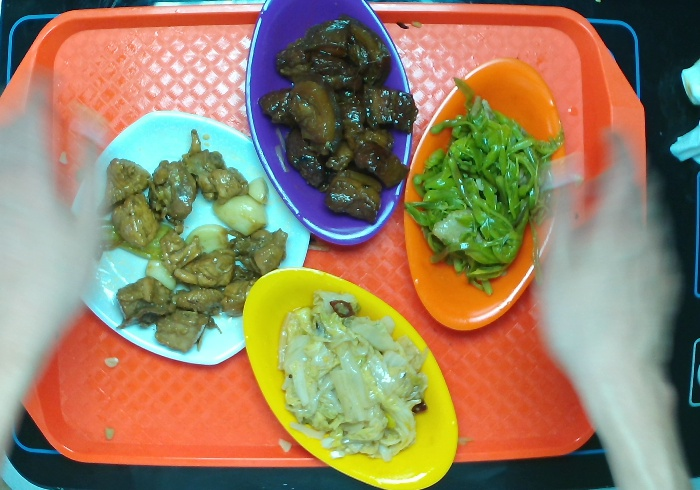RJxy-Fen_Hong_Tuo_Yuan: (243, 1, 416, 247)
RJxy-Huang_Se_Tuo_Yuan: (242, 265, 460, 490)
RJxy-Ju_Huang_Tuo_Yuan: (403, 57, 567, 332)
RJxy-Si_Fang_Die: (68, 109, 312, 367)
